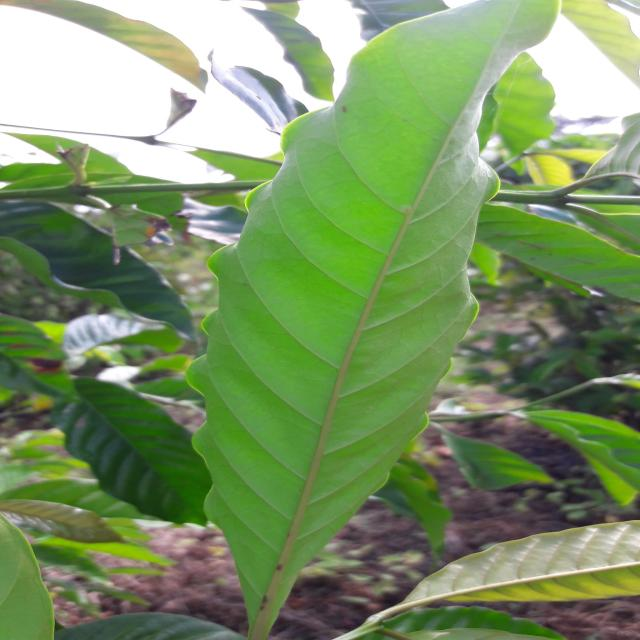Sanas: (183, 0, 563, 640)
